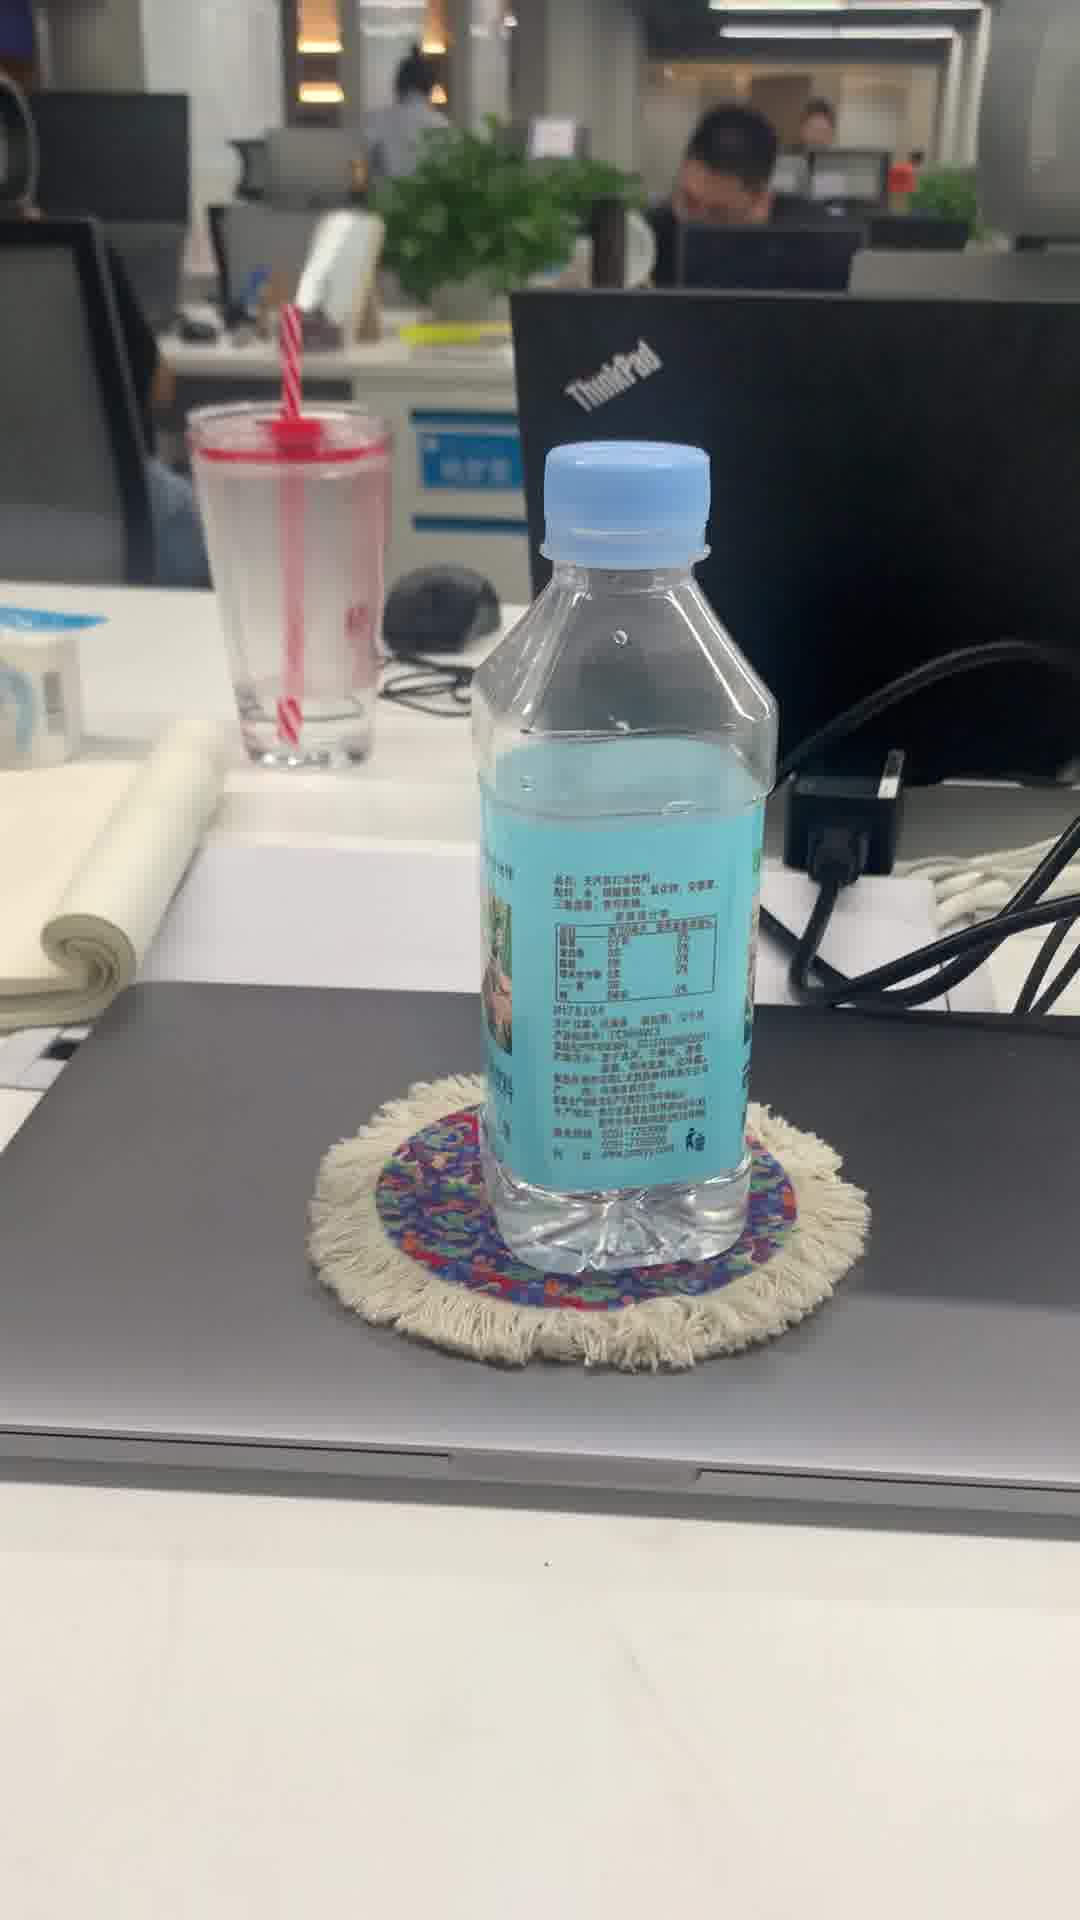水瓶: (471, 430, 779, 1280)
